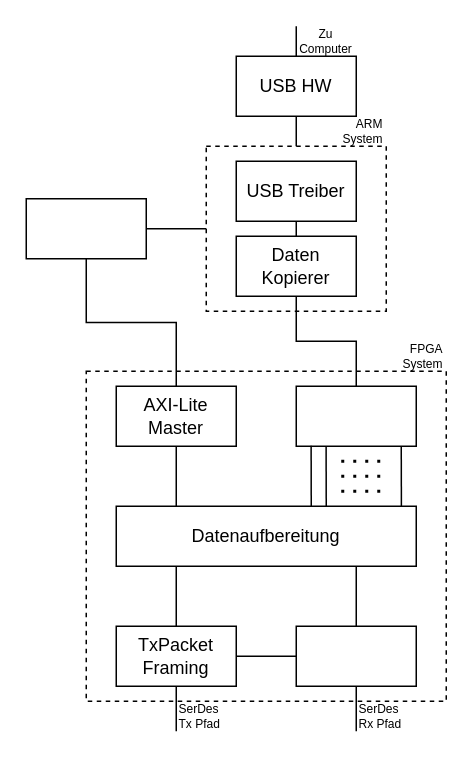
The diagram is 473 pixels wide and 759 high, and some of its shapes have lost their labels. Here are the shapes that lost their labels. From the top down, the centre of each, then its label:
pixel 85 228: RAM
pixel 355 415: AXI-Lite Slave
pixel 355 655: Command Processor
